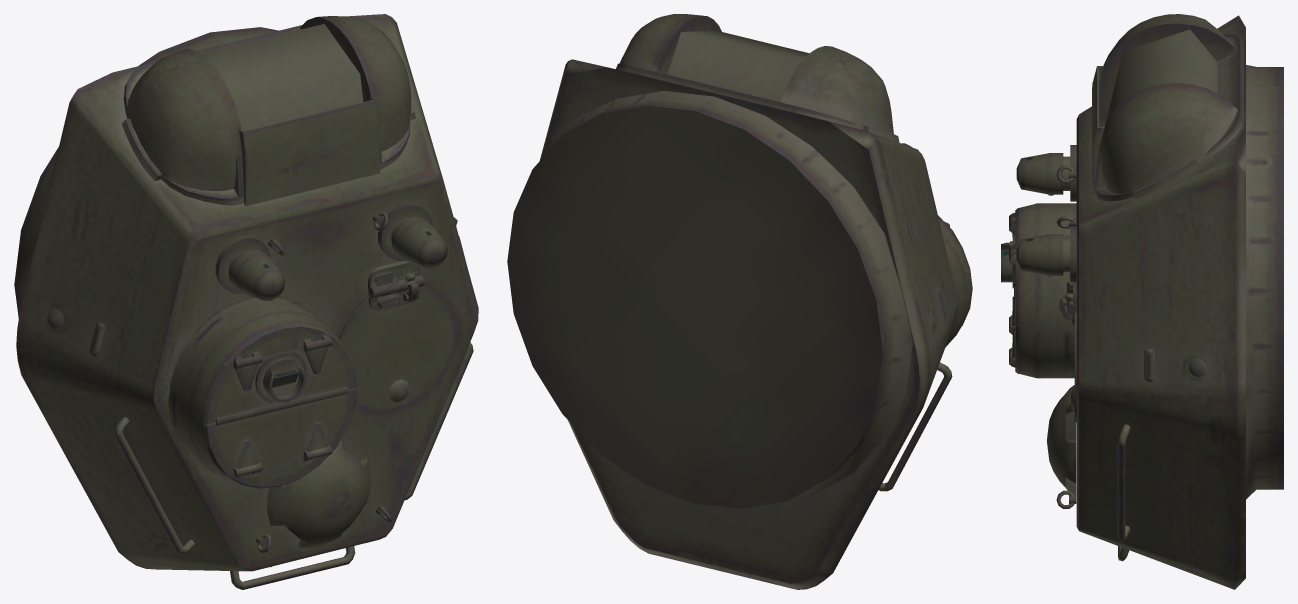
The model's file is Turret_02.glb.
3 views of the same model, side by side, from view 1: azimuth 30°, elevation 25°; view 2: azimuth 150°, elevation 25°; view 3: azimuth 270°, elevation 25° (orthographic). The views are drawn at different scales.
Visible parts, largest first — view 1: set_0_group_0; view 2: set_0_group_0; view 3: set_0_group_0.
Boxes of the visible parts, x1,y1,x2,y2 form: set_0_group_0: (14,14,478,589); set_0_group_0: (507,14,972,589); set_0_group_0: (1001,14,1283,589).
Bounding box in the file's own units: 1.85 × 2.19 × 1.12.
1 material, 1 textured.
